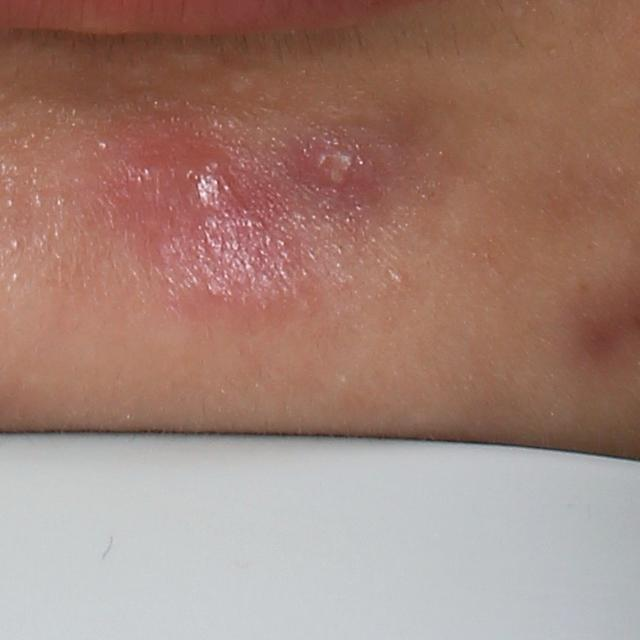hypertrophic_scar: (223, 68, 267, 99), (169, 50, 213, 72)
pustule: (319, 137, 358, 192)
